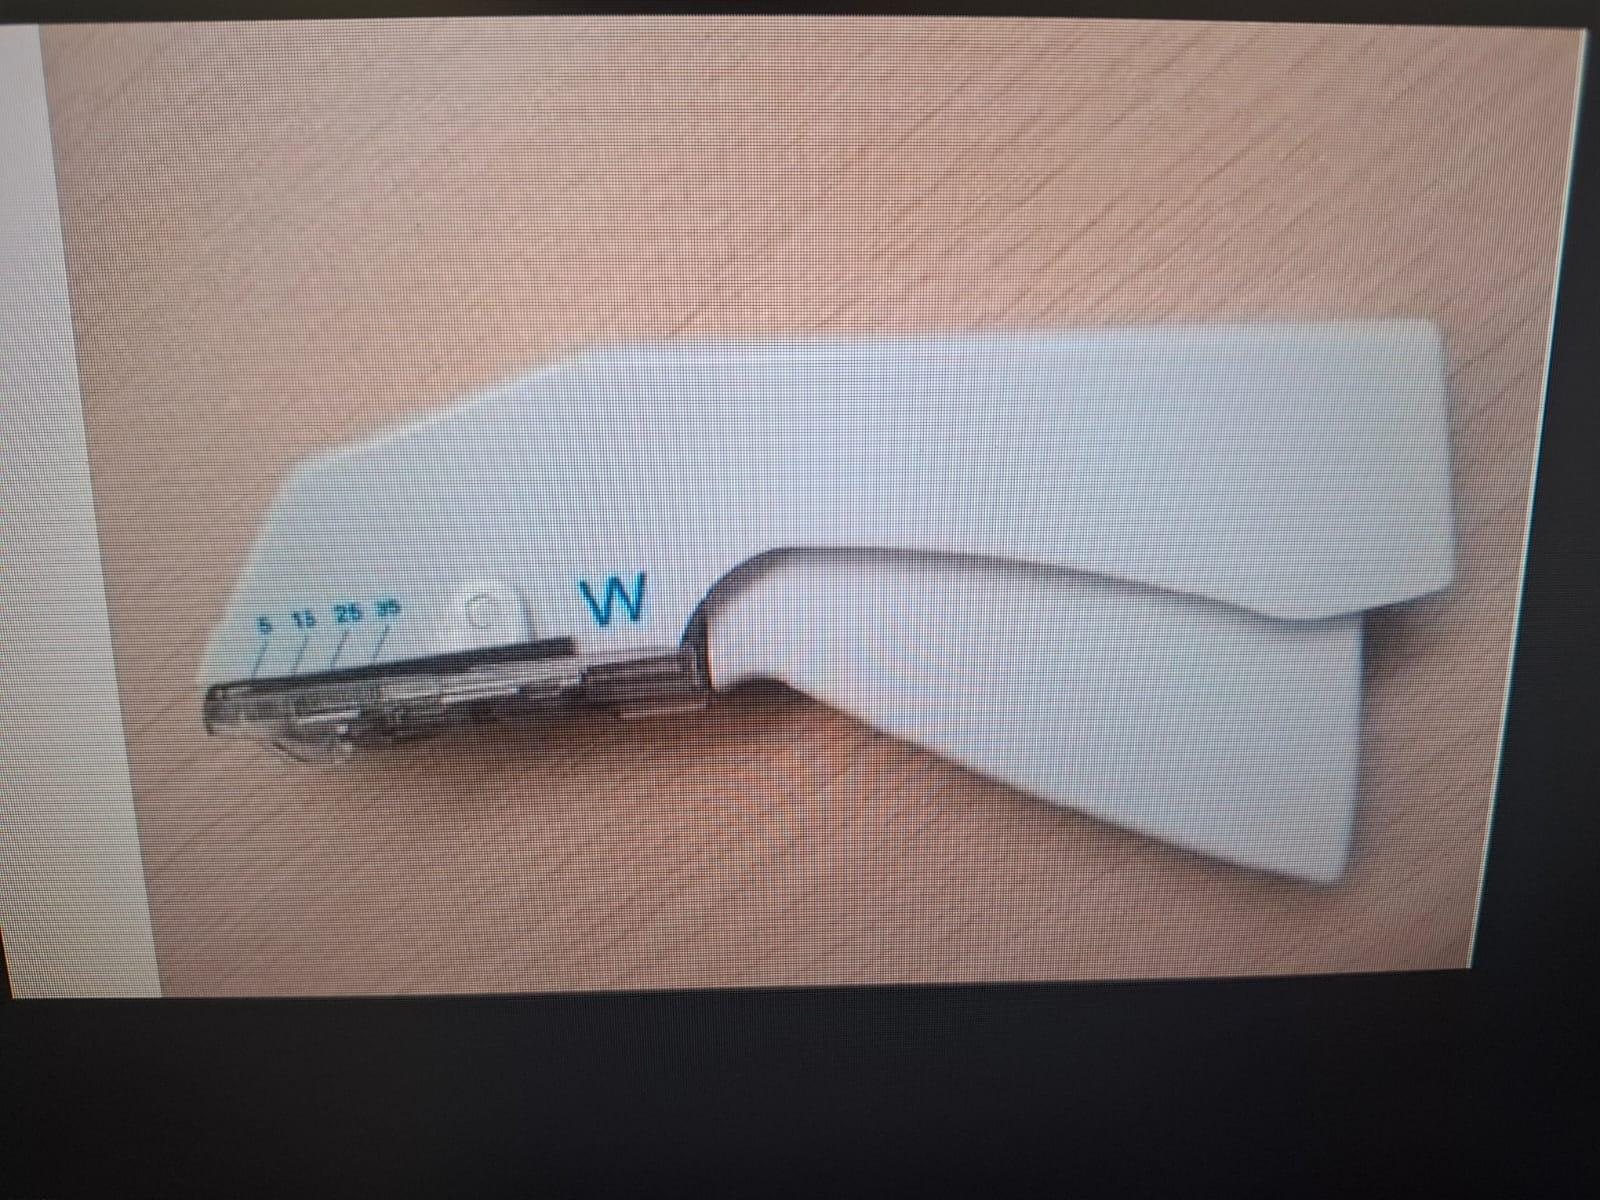Skin Stapler: (164, 290, 1468, 908)
